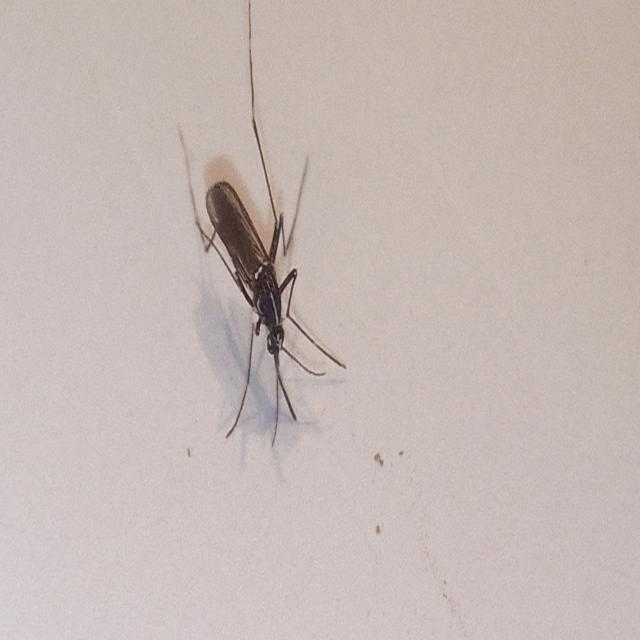albopictus: (169, 19, 346, 447)
